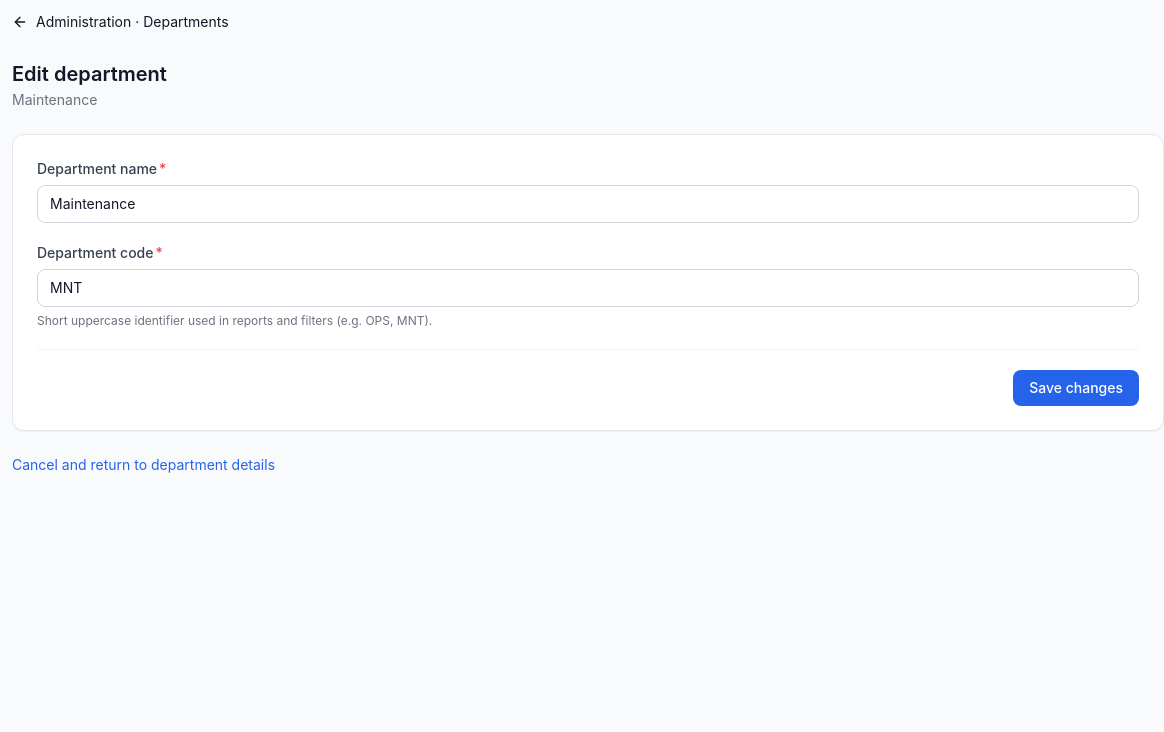
Test: DepartmentEditPage › allows updating department values
Replace the text in the field labelled "Department name*" with "Maintenance Hub": {"x": 588, "y": 204} [37, 185, 1139, 223]
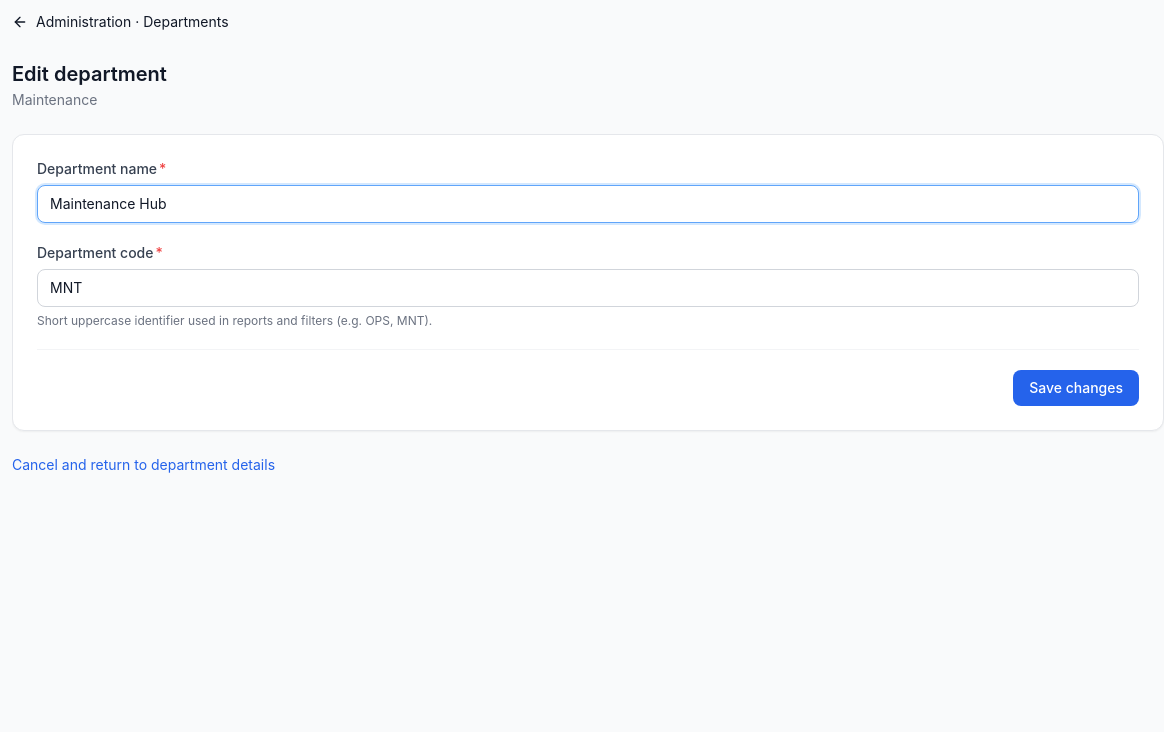
Click the button "Save changes": {"x": 1076, "y": 388} [1013, 370, 1139, 406]
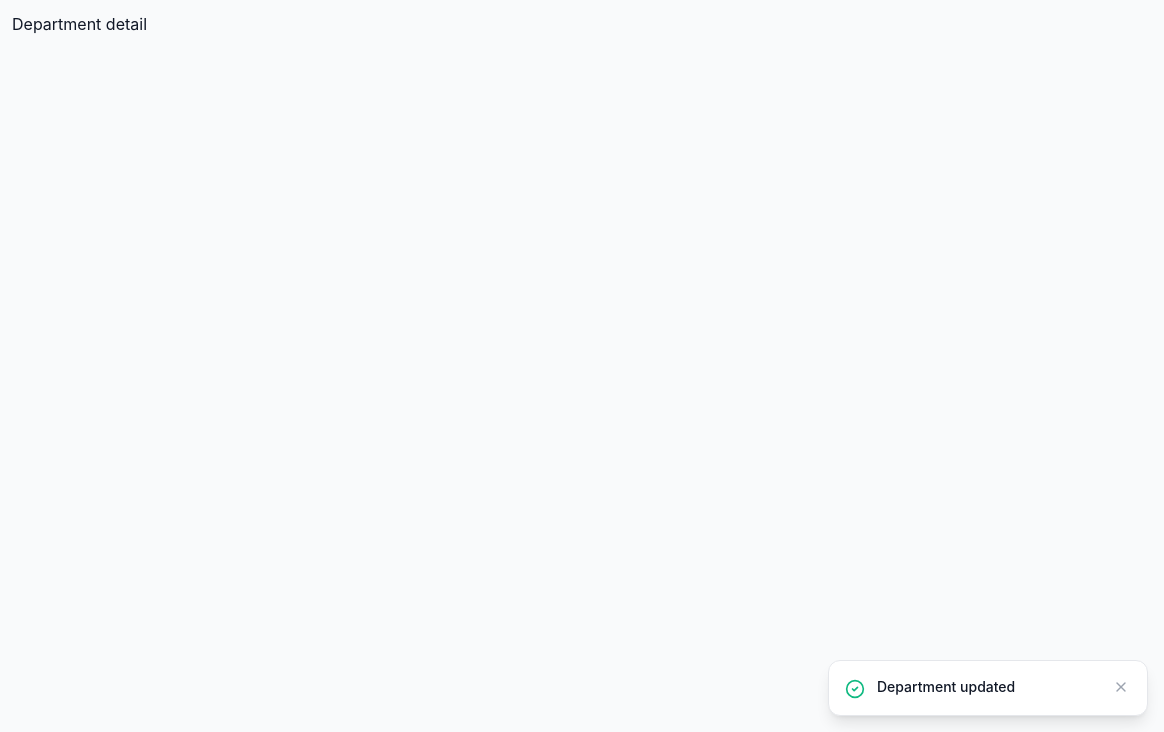
Expected: the text "Department detail" is shown, [12, 14, 147, 34]
